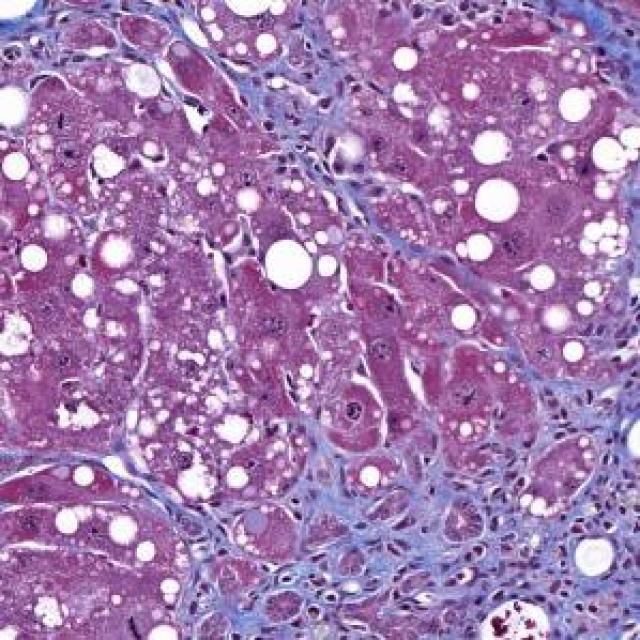fibrosis: (304, 428, 619, 621), (244, 64, 398, 184), (8, 0, 126, 66), (563, 0, 640, 86)
